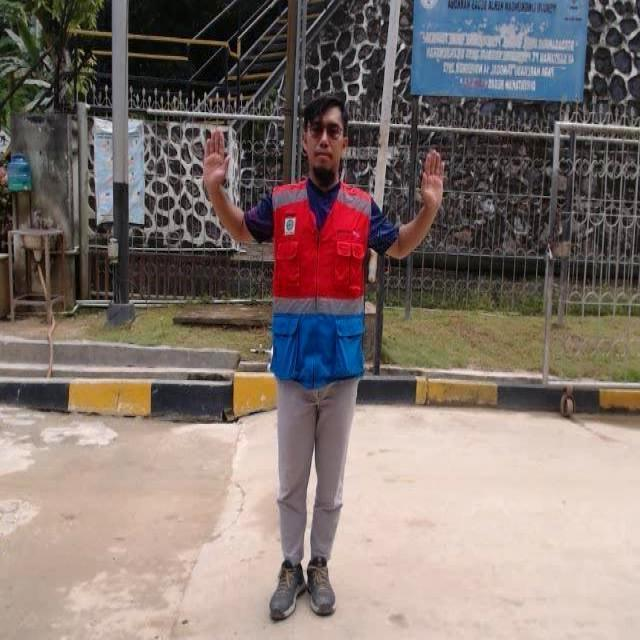10: (173, 92, 472, 640)
11: (269, 182, 372, 385)
7: (389, 132, 461, 262), (181, 124, 258, 244)
8: (286, 87, 344, 233)
helmet_white: (265, 561, 304, 624), (306, 552, 339, 620)
